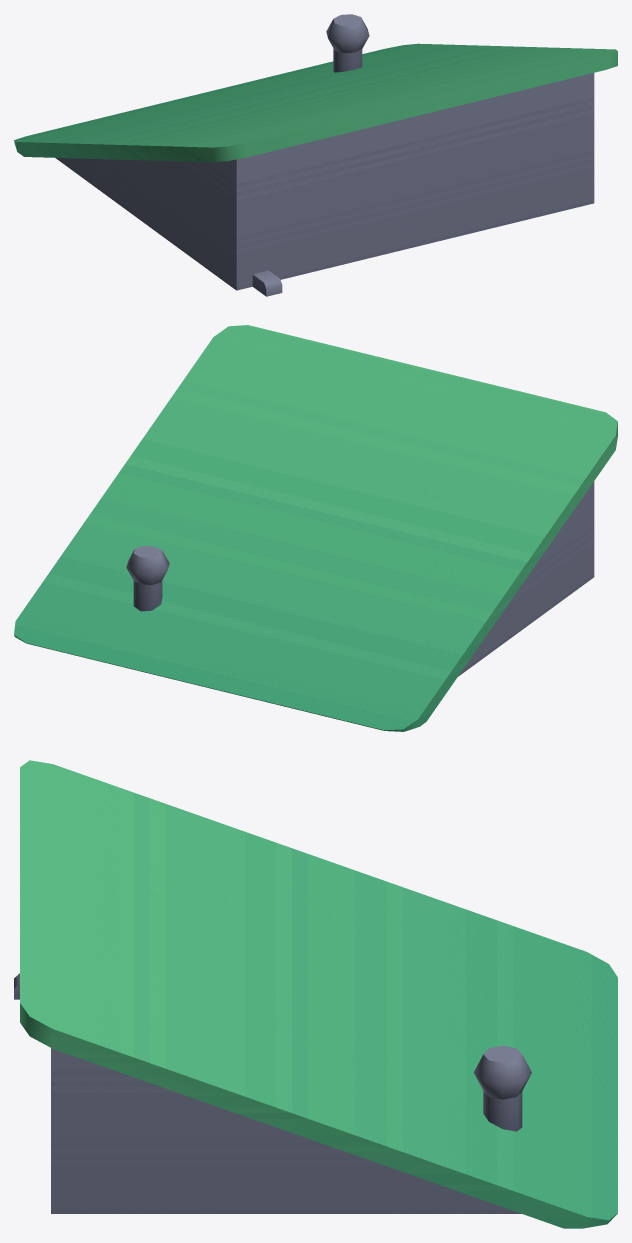
File: suburban-k.glb
3 views of the same model, one above another, from view 1: azimuth 30°, elevation 25°; view 2: azimuth 150°, elevation 25°; view 3: azimuth 270°, elevation 25° (orthographic). The views are drawn at different scales.
Visible parts, largest first — view 1: building-type-k; view 2: building-type-k; view 3: building-type-k.
Boxes of the visible parts, x1,y1,x2,y2 form: building-type-k: (14,14,617,296); building-type-k: (14,325,617,731); building-type-k: (14,760,617,1228).
Size of the model in its own units: 12.35 by 4.59 by 11.9.
Materials: 1 (1 with a texture image).
